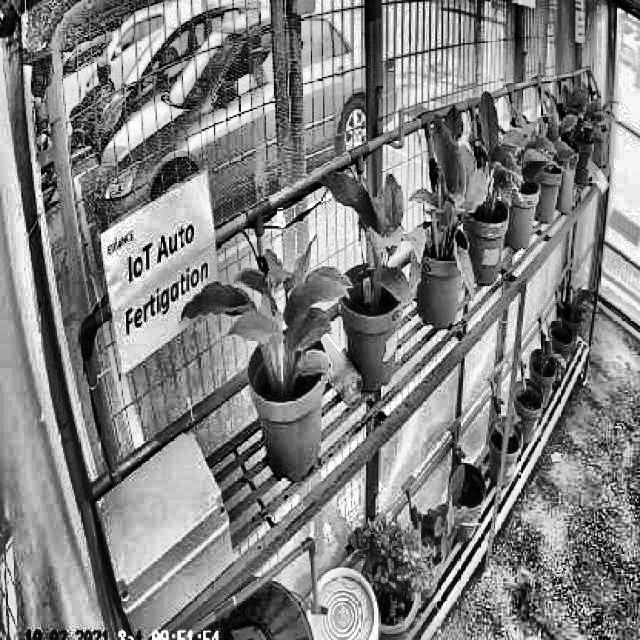plants: (182, 231, 352, 384), (411, 100, 478, 312), (324, 169, 426, 302), (449, 86, 528, 219)
